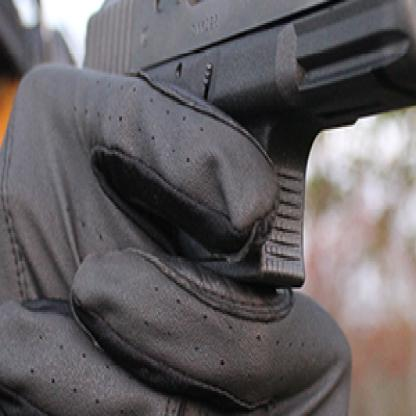gun: (69, 0, 415, 325)
